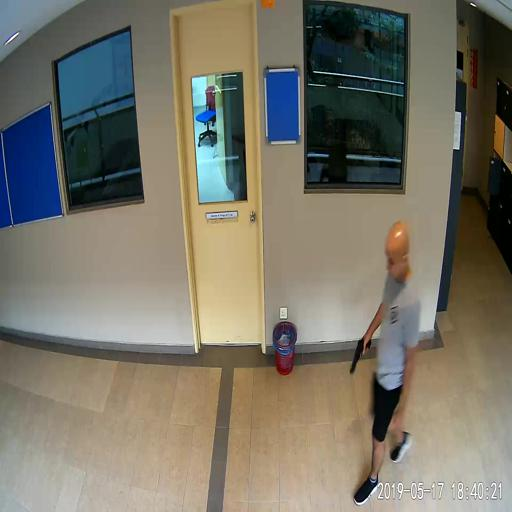pistol: (349, 337, 371, 374)
